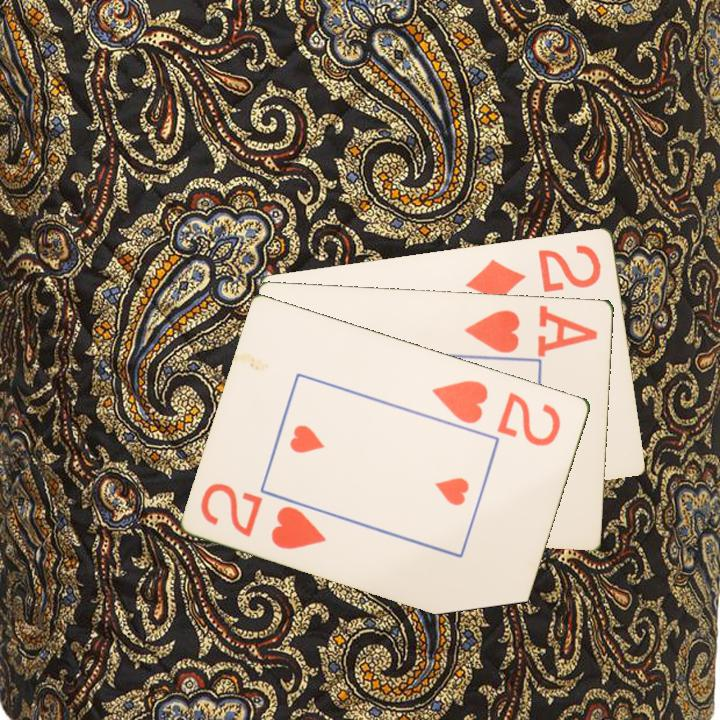2d: (462, 241, 605, 304)
2h: (429, 376, 565, 449), (197, 479, 330, 552)
Ah: (461, 301, 601, 358)
